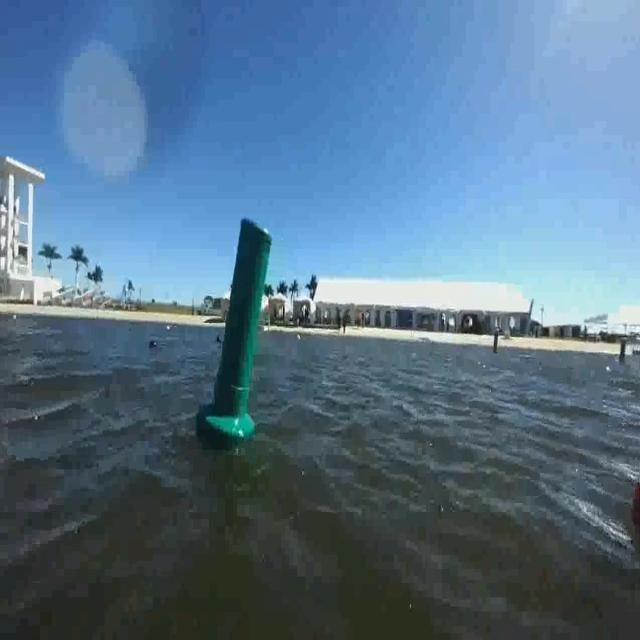green-column-buoy: (200, 216, 270, 445)
